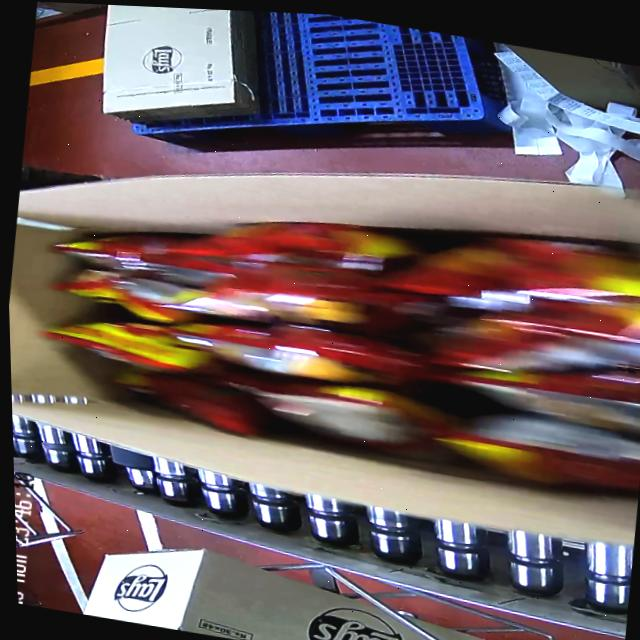MASALA: (66, 164, 640, 500)
